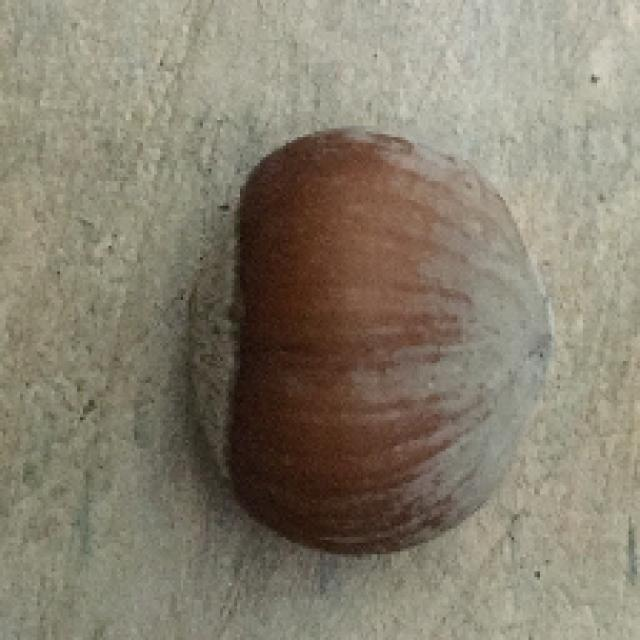qualityHazelnut: (196, 126, 558, 550)
